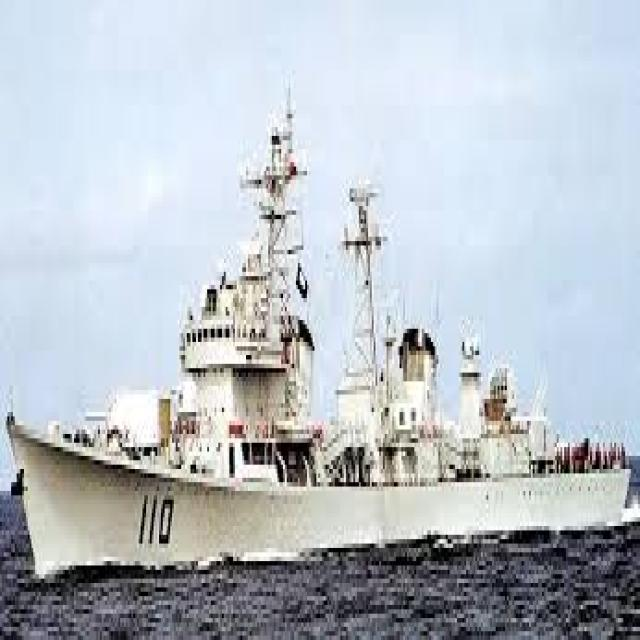navalvessels: (0, 125, 637, 562)
